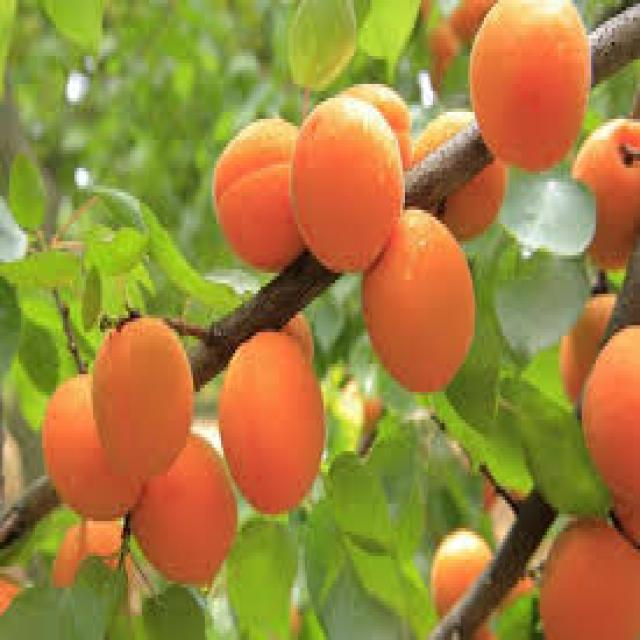Kayisi: (468, 0, 589, 168), (361, 210, 472, 388), (291, 94, 403, 269), (219, 332, 323, 511), (91, 318, 191, 493), (130, 434, 235, 584)
Yaprak: (140, 203, 240, 308), (226, 518, 296, 637), (289, 0, 356, 115), (326, 451, 391, 546), (19, 318, 56, 392), (7, 154, 42, 227)
